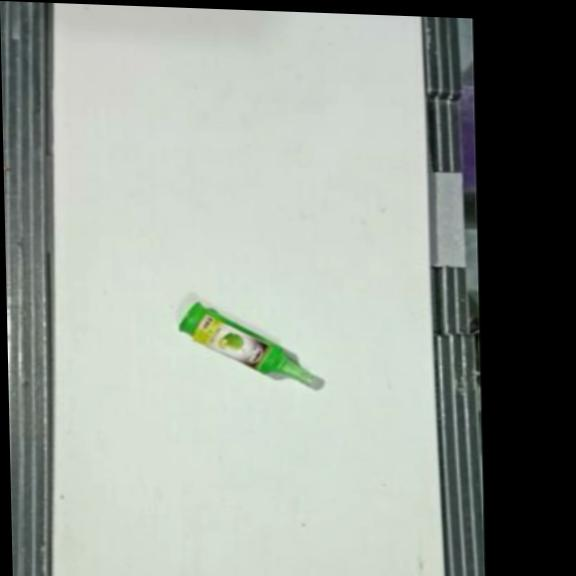Plastik: (178, 297, 323, 389)
